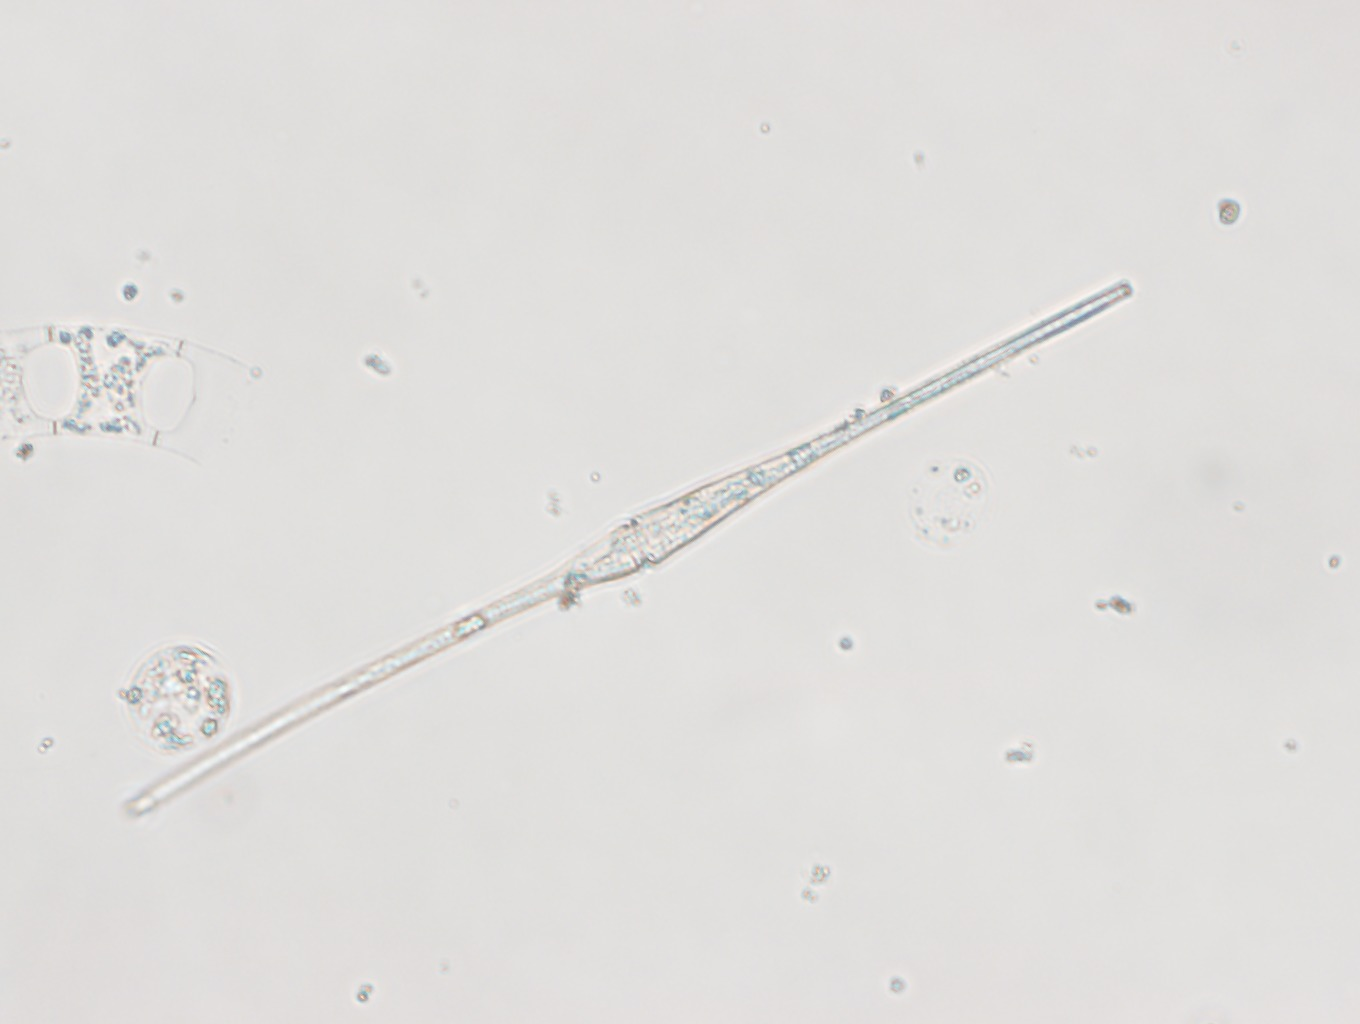ceratium fusus: (118, 274, 1132, 826)
eucampia: (1, 326, 258, 468)
